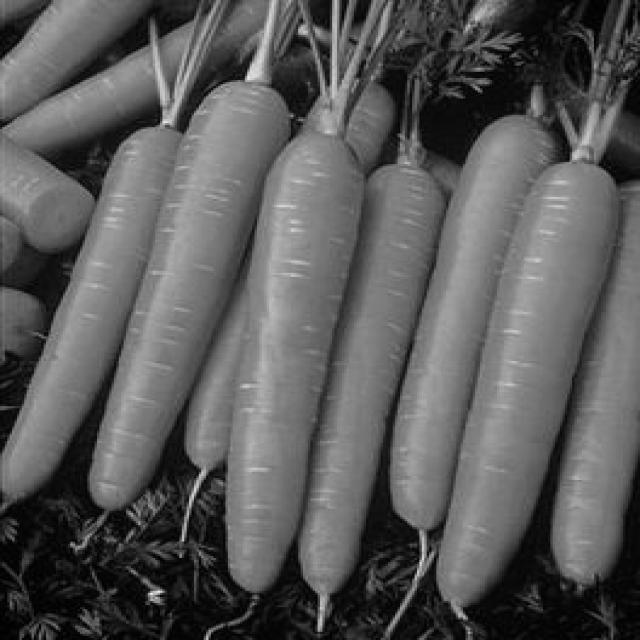Fresh_Carrot: (424, 162, 618, 610), (92, 86, 286, 519), (0, 135, 197, 496), (388, 110, 552, 521), (224, 126, 359, 592), (303, 159, 441, 610)
